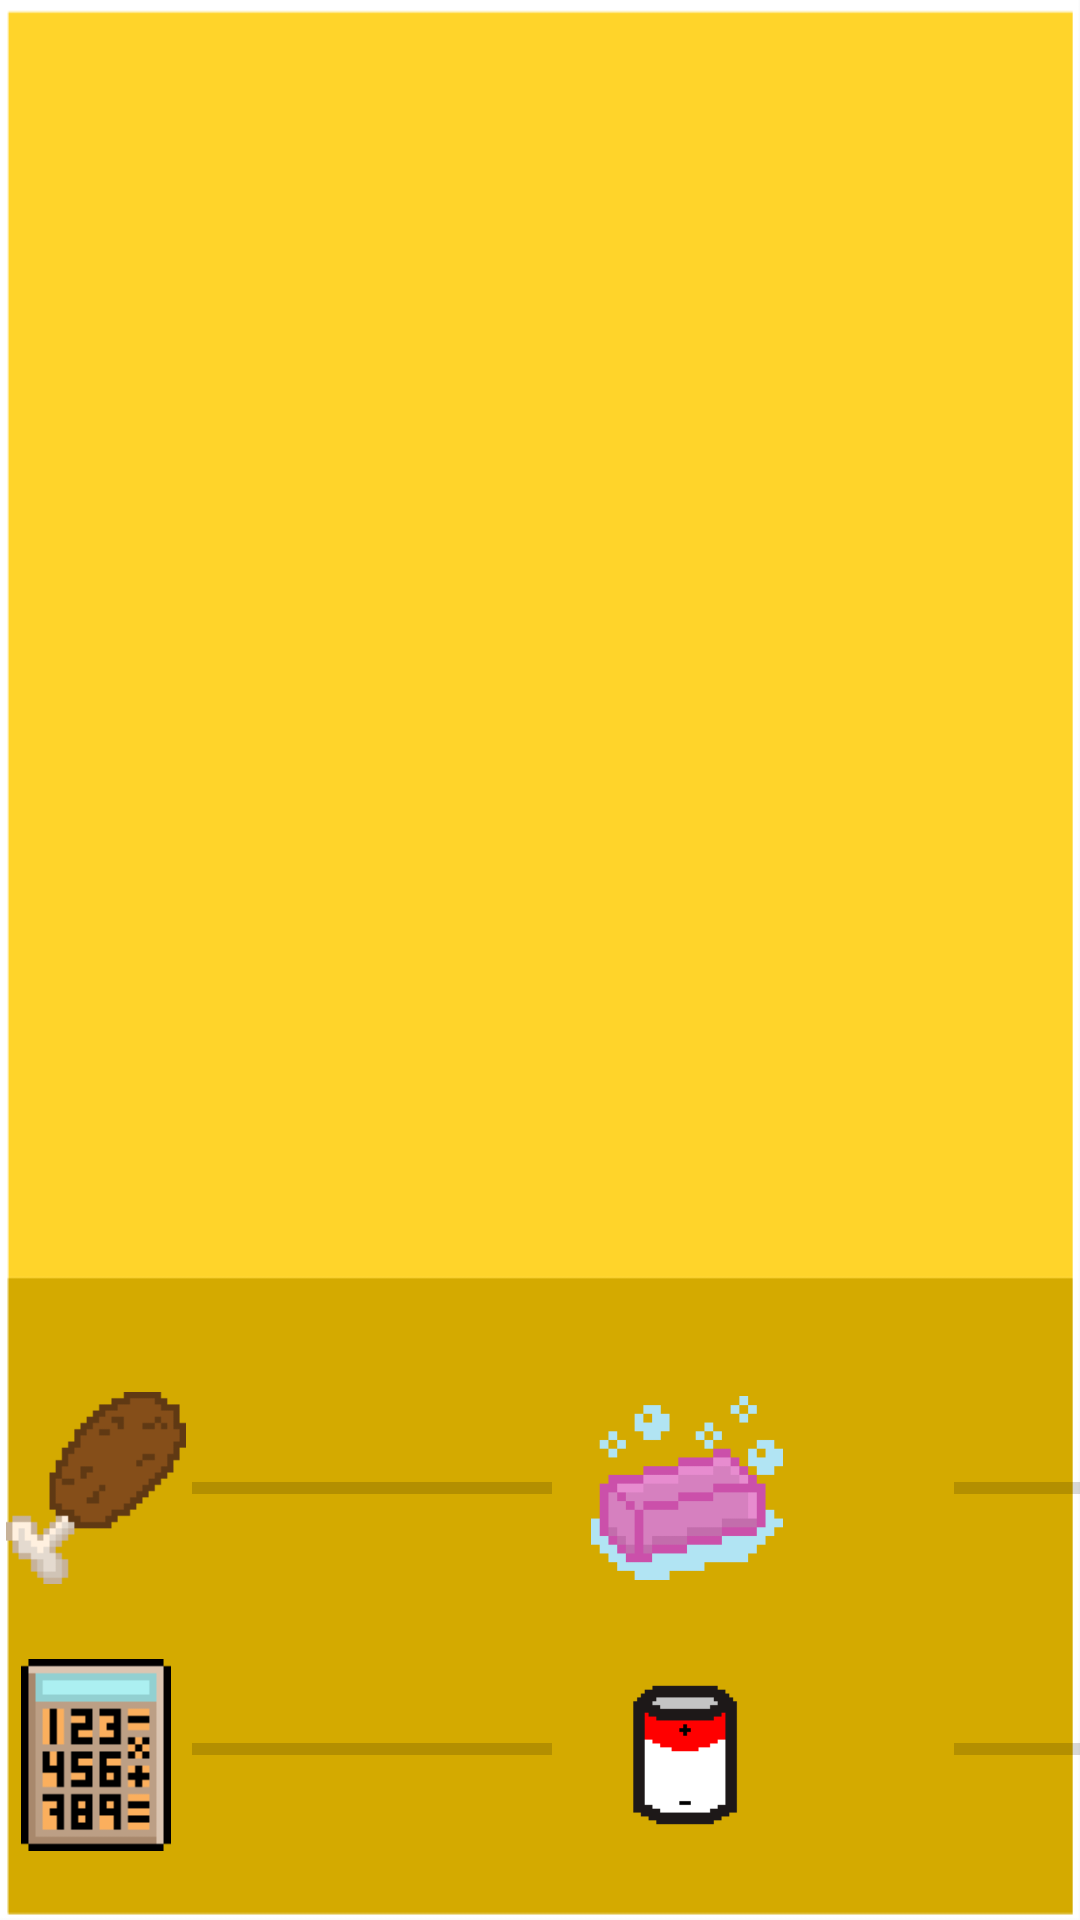

Where to tap for icons on this 1080px×1920px app screen, as (x=x, y=y):
battery: (x=685, y=1755)
calculator: (x=96, y=1755)
soap: (x=687, y=1488)
turkey: (x=93, y=1488)
